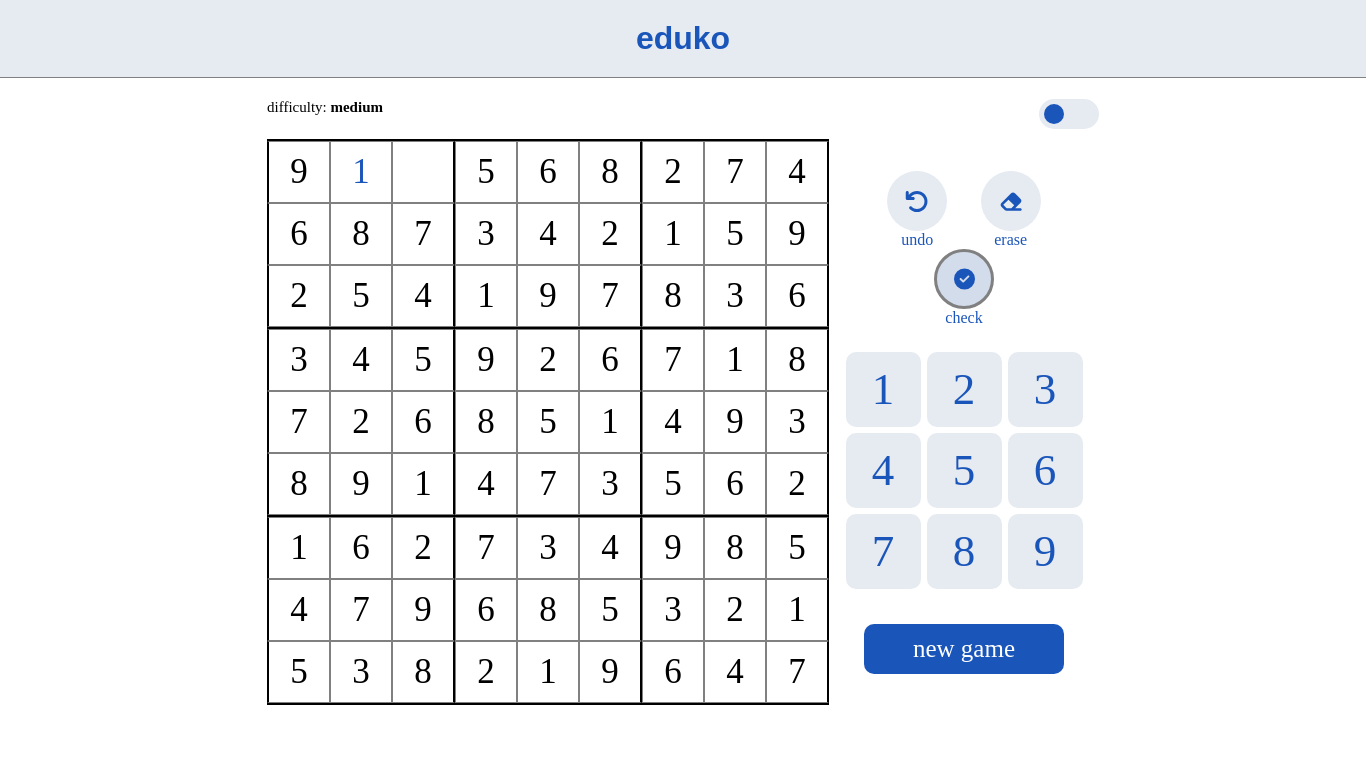
starts new game of given size and difficulty before completing current
Note: Toggle the new game menu
Click the button "new game" at (964, 649), box x1=864 y1=624 x2=1064 y2=674
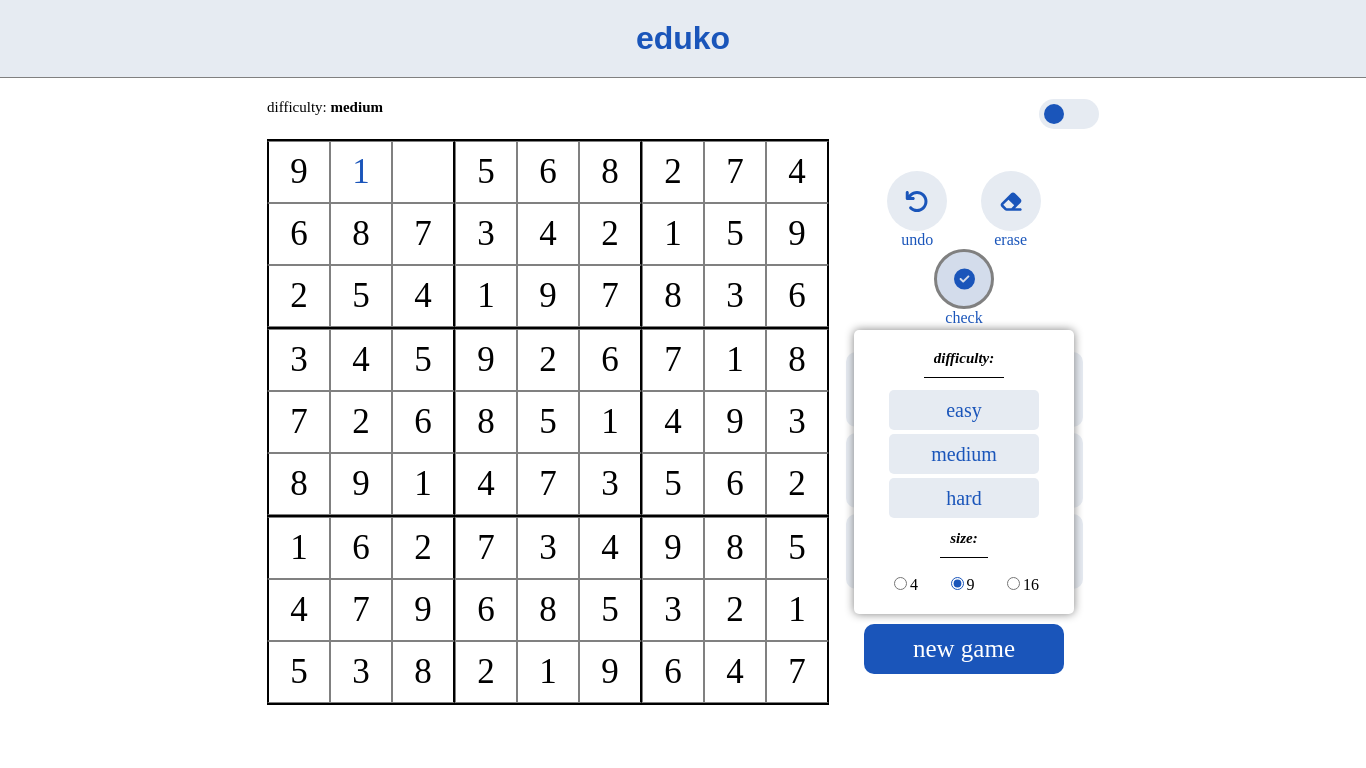
Check: the element with test id "new-game-menu" is shown, box x1=854 y1=330 x2=1074 y2=614
Click the 1st radio button at (900, 583), box x1=894 y1=577 x2=907 y2=590
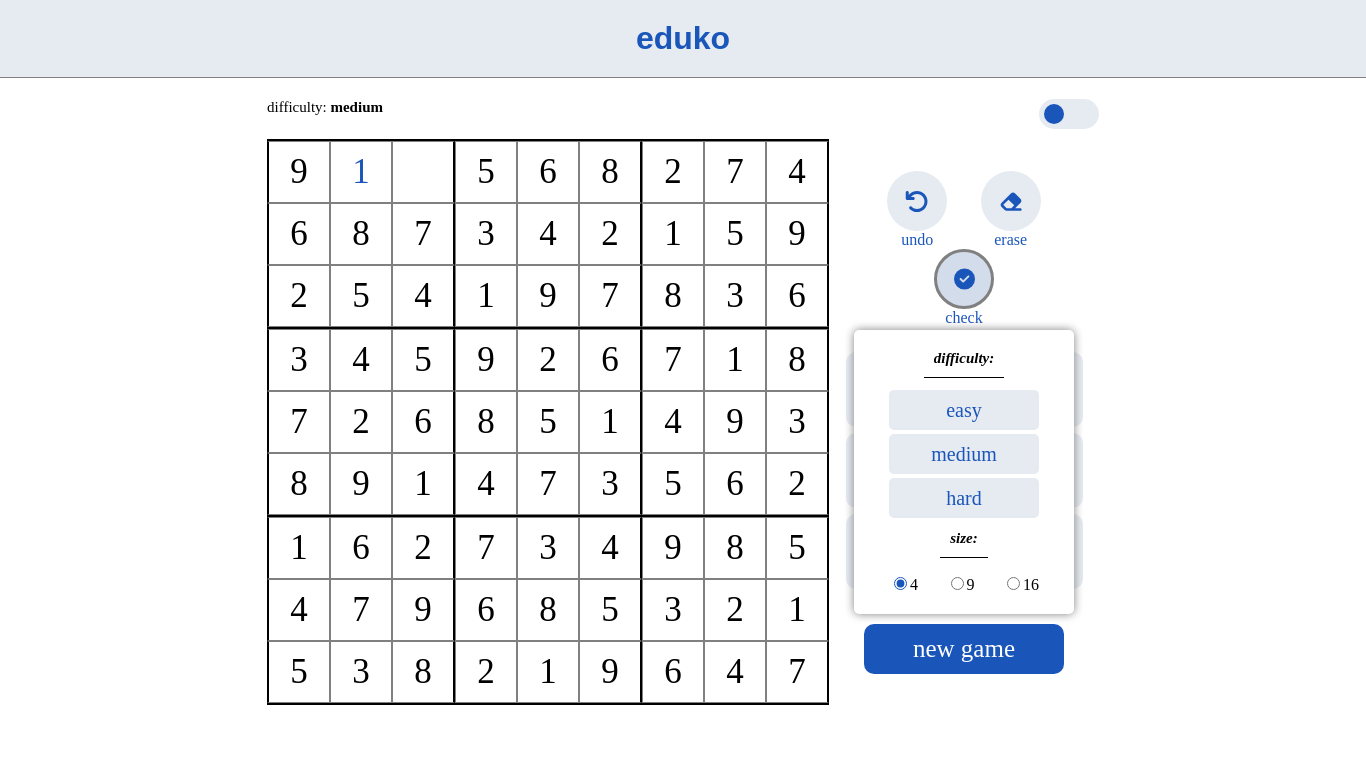
Click the button "medium" at (964, 454), box x1=889 y1=434 x2=1039 y2=474
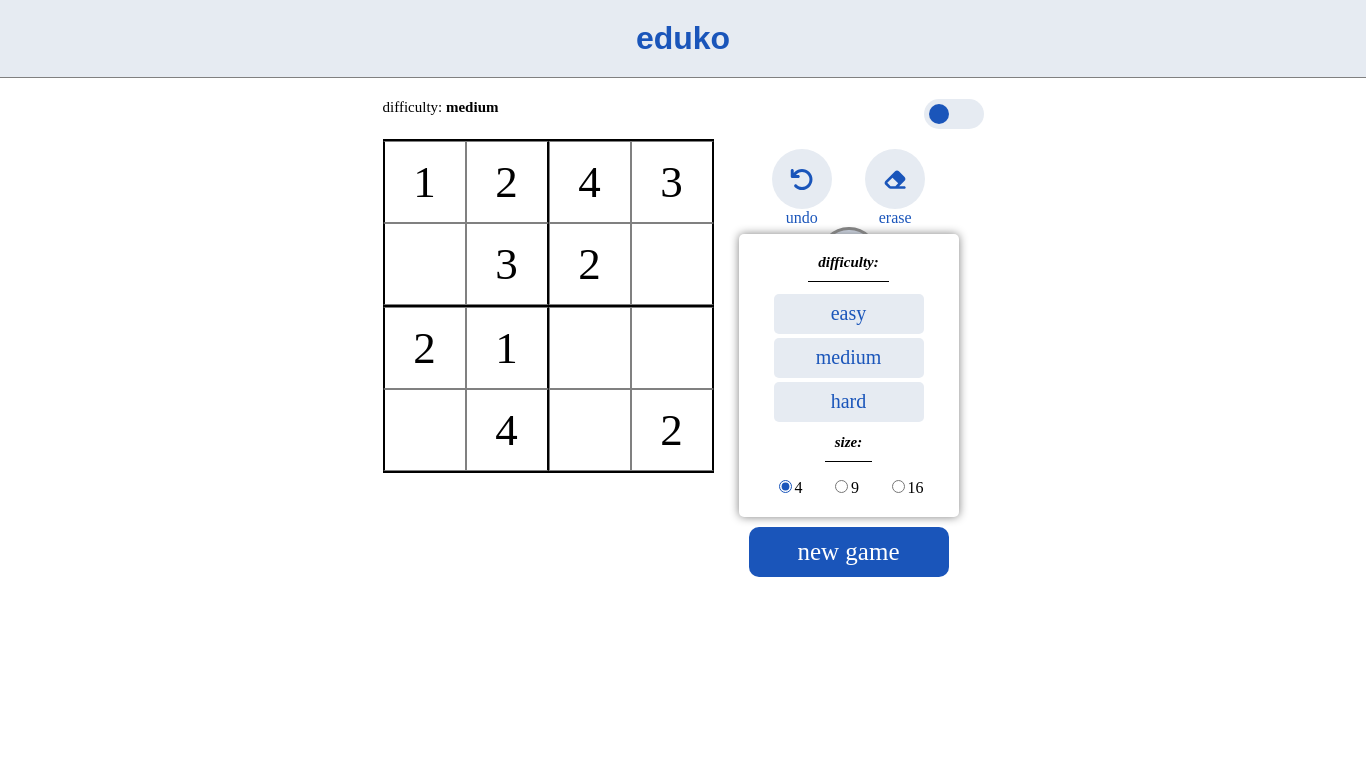
Check: the text with test id "row-0-column-0" reads "1", box x1=413 y1=157 x2=436 y2=207
